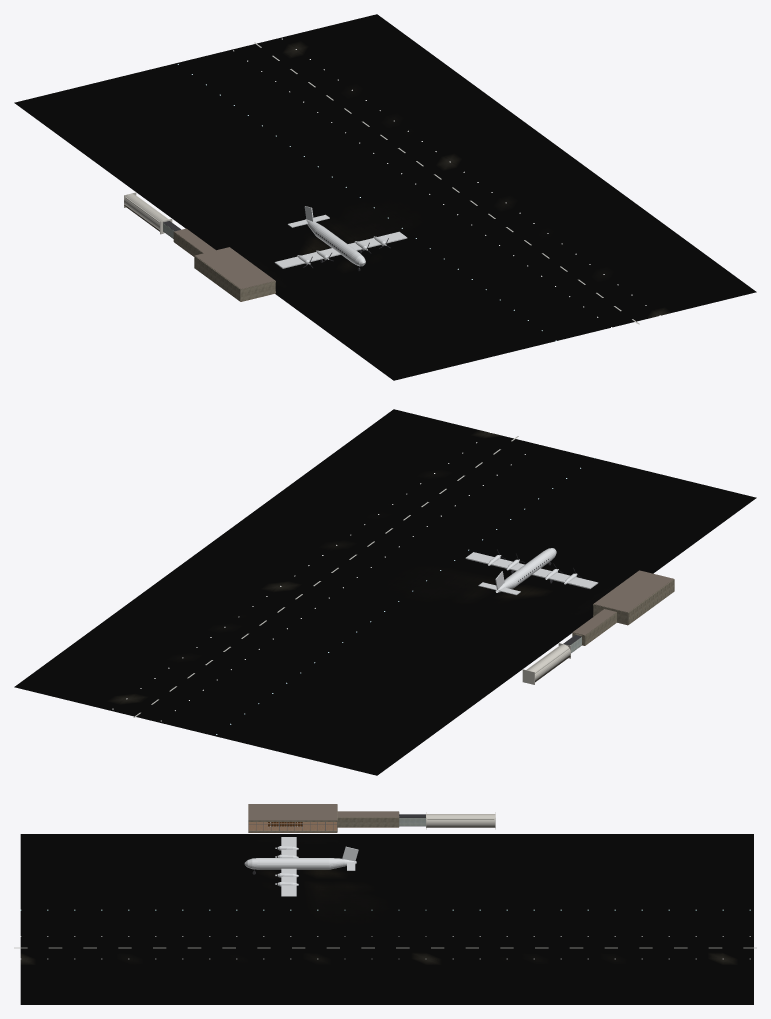
Rendered from space04.glb.
3 renders of one model, top to bottom at view 1: azimuth 30°, elevation 25°; view 2: azimuth 150°, elevation 25°; view 3: azimuth 270°, elevation 25°, orthographic. The views are drawn at different scales.
Visible parts, largest first — view 1: space04_vlit, space04_static; view 2: space04_vlit, space04_static; view 3: space04_vlit, space04_static.
Boxes of the visible parts, box(x1,y1,x2,y2) form: space04_vlit: box(14, 14, 756, 380); space04_static: box(124, 38, 660, 341); space04_vlit: box(14, 409, 756, 775); space04_static: box(112, 432, 674, 734); space04_vlit: box(20, 834, 753, 1004); space04_static: box(14, 804, 756, 959).
Size of the model in its own units: 115 by 8.34 by 192.
38 materials, 18 textured.
